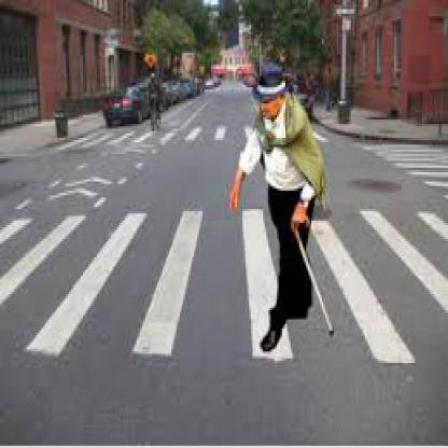silver: (228, 68, 336, 351)
